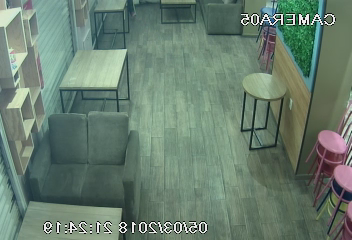libre: (49, 36, 135, 117), (228, 58, 294, 147), (83, 1, 139, 35)
